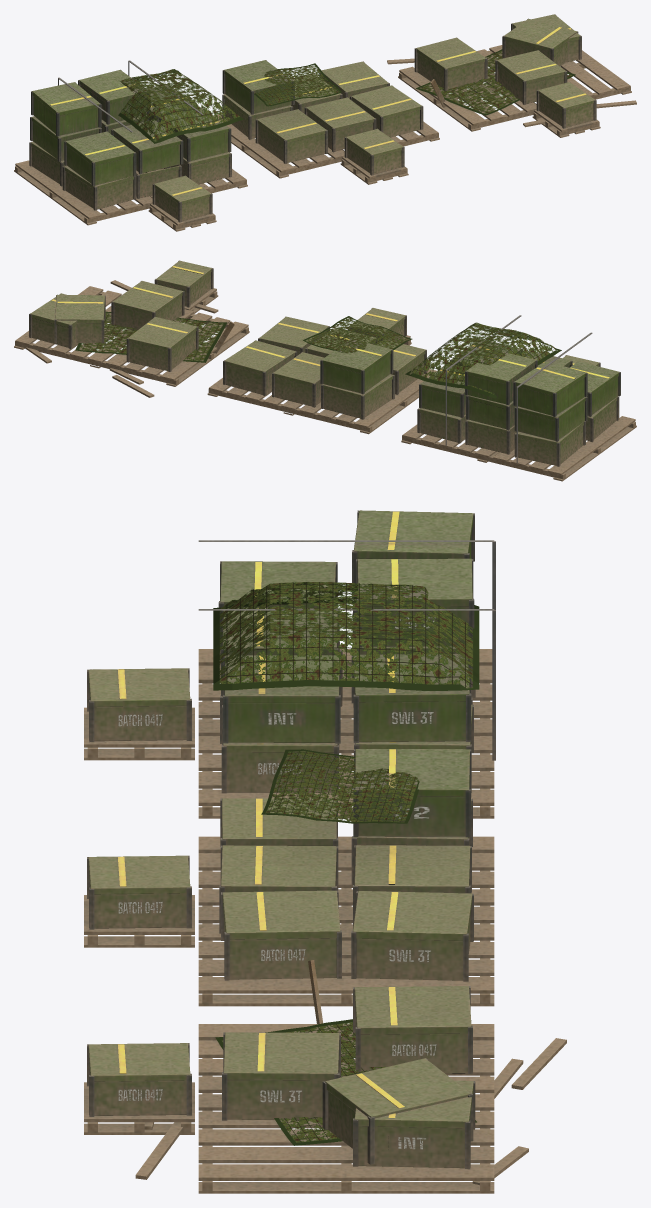
Rendered from voorraadstapel.glb.
3 renders of one model, top to bottom at view 1: azimuth 30°, elevation 25°; view 2: azimuth 150°, elevation 25°; view 3: azimuth 270°, elevation 25°, orthographic. The views are drawn at different scales.
Visible parts, largest first — view 1: Kisten_vol, Kisten_half, Kisten_leeg, Pallet_leeg, Net_vol, Pallet_vol, Pallet_half, Net_half, Net_leeg, Beslag_vol, Afhaal_kist_leeg, Afhaal_kist_vol (+9 smaller); view 2: Kisten_vol, Kisten_half, Kisten_leeg, Pallet_leeg, Net_vol, Pallet_vol, Pallet_half, Net_half, Beslag_vol, Net_leeg, Afhaal_kist_leeg, Beslag_half (+4 smaller); view 3: Kisten_half, Kisten_vol, Kisten_leeg, Pallet_leeg, Net_vol, Pallet_half, Pallet_vol, Net_half, Afhaal_kist_vol, Afhaal_kist_half, Afhaal_kist_leeg, Beslag_vol (+9 smaller).
Part boxes in pixels (x1,y1,x2,y2): Kisten_vol: (30,70,230,209); Kisten_half: (223,60,421,162); Kisten_leeg: (416,14,580,103); Pallet_leeg: (387,45,636,131); Net_vol: (118,69,243,143); Pallet_vol: (14,160,247,225); Pallet_half: (213,114,439,178); Net_half: (254,63,341,106); Net_leeg: (416,49,575,115); Beslag_vol: (29,69,231,210); Afhaal_kist_leeg: (538,82,595,127); Afhaal_kist_vol: (154,175,211,221); Kisten_vol: (419,339,619,465); Kisten_half: (224,316,425,418); Kisten_leeg: (30,281,197,370); Pallet_leeg: (14,280,249,397); Net_vol: (405,322,561,398); Pallet_vol: (401,416,636,481); Pallet_half: (207,369,436,434); Net_half: (303,316,412,353); Beslag_vol: (417,349,620,466); Net_leeg: (75,311,226,362); Afhaal_kist_leeg: (156,260,212,306); Beslag_half: (223,316,426,419); Kisten_half: (221,749,472,980); Kisten_vol: (220,510,473,792); Kisten_leeg: (223,986,473,1168); Pallet_leeg: (135,960,566,1193); Net_vol: (213,582,479,690); Pallet_half: (198,836,494,1006); Pallet_vol: (198,649,494,818); Net_half: (261,749,419,823); Afhaal_kist_vol: (88,668,190,741); Afhaal_kist_half: (88,855,190,928); Afhaal_kist_leeg: (88,1043,190,1115); Beslag_vol: (218,510,475,793).
Size of the model in its own units: 17 by 2.55 by 6.54.
3 materials, 3 textured.
